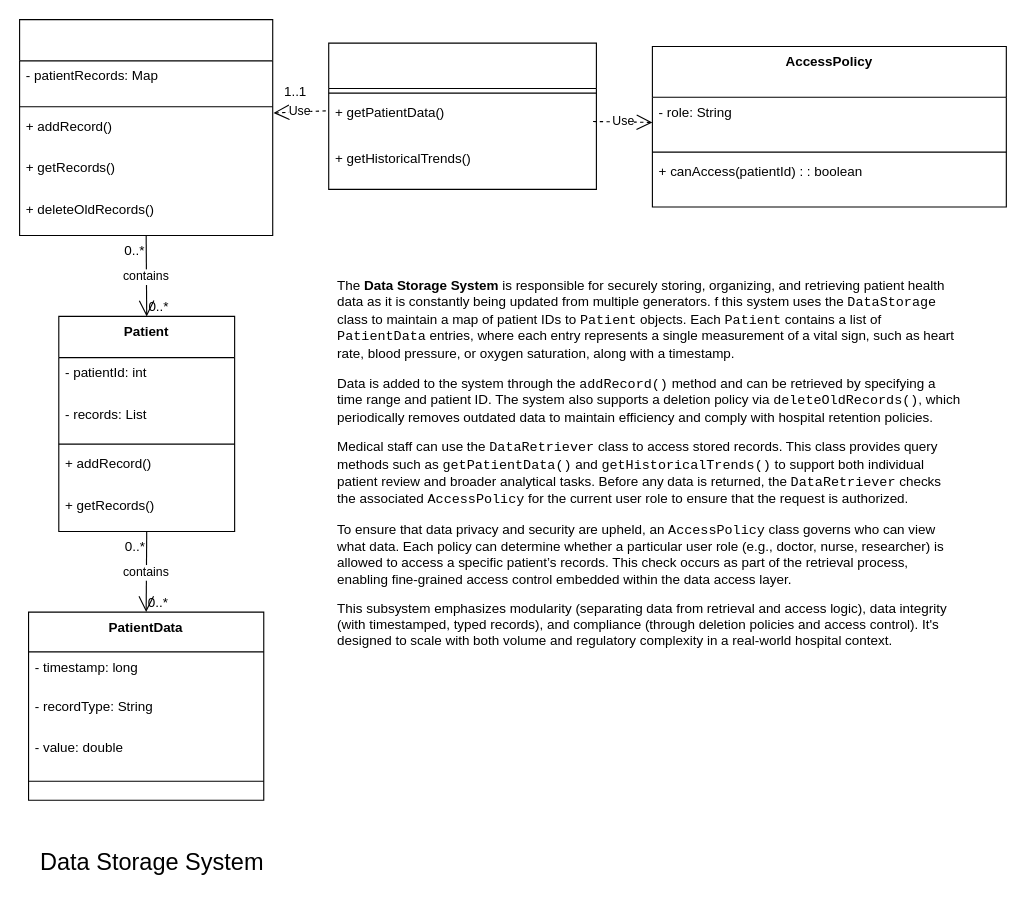
Some shapes in this 1026 by 904 pixel diagram are drawn without their labels. The box of each missing label's shape, as (x1, y1, x2, y2) in pixels:
DataRetriever: (328, 42, 596, 189)
DataStorage: (18, 18, 273, 236)
